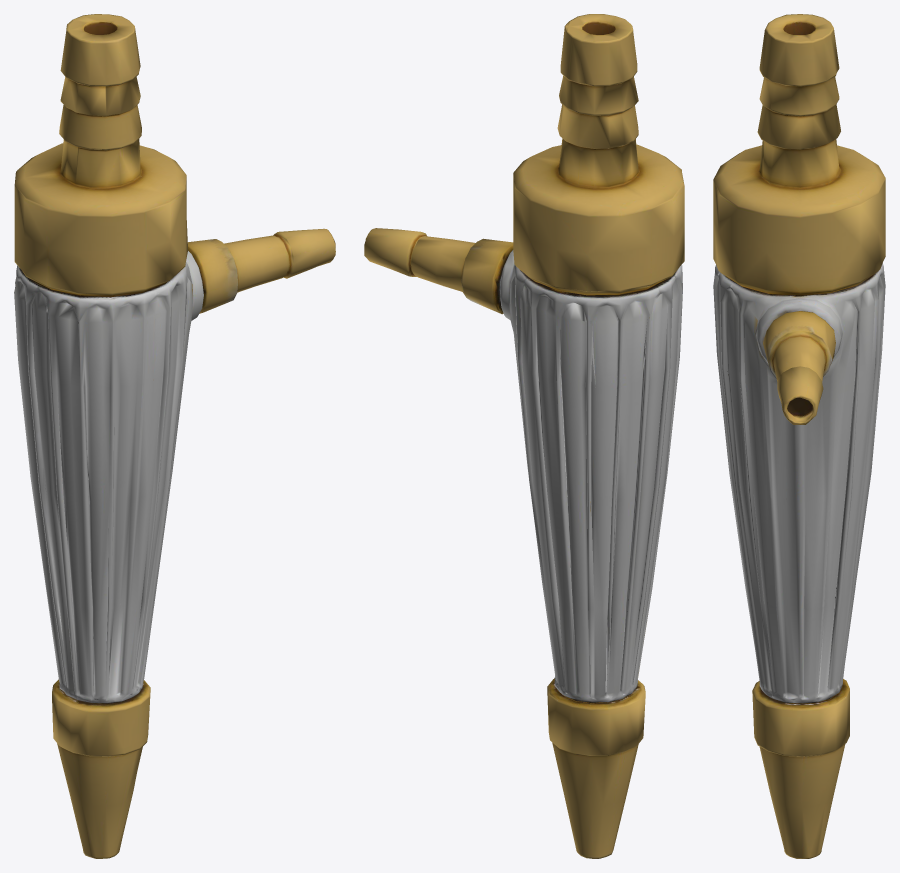
Rendered from selected.glb.
The picture shows the model from 3 angles, left to right: view 1: azimuth 30°, elevation 25°; view 2: azimuth 150°, elevation 25°; view 3: azimuth 270°, elevation 25°; orthographic projection.
Visible parts, largest first — view 1: tripo_node_bdea52f3-70a0-43f8-9bfd-a2720fe1e4f6; view 2: tripo_node_bdea52f3-70a0-43f8-9bfd-a2720fe1e4f6; view 3: tripo_node_bdea52f3-70a0-43f8-9bfd-a2720fe1e4f6.
Boxes of the visible parts, x1,y1,x2,y2 form: tripo_node_bdea52f3-70a0-43f8-9bfd-a2720fe1e4f6: (14, 14, 335, 858); tripo_node_bdea52f3-70a0-43f8-9bfd-a2720fe1e4f6: (364, 14, 684, 858); tripo_node_bdea52f3-70a0-43f8-9bfd-a2720fe1e4f6: (713, 14, 885, 858).
Bounding box in the file's own units: 0.3848 × 0.998 × 0.1895.
1 material, 1 textured.
